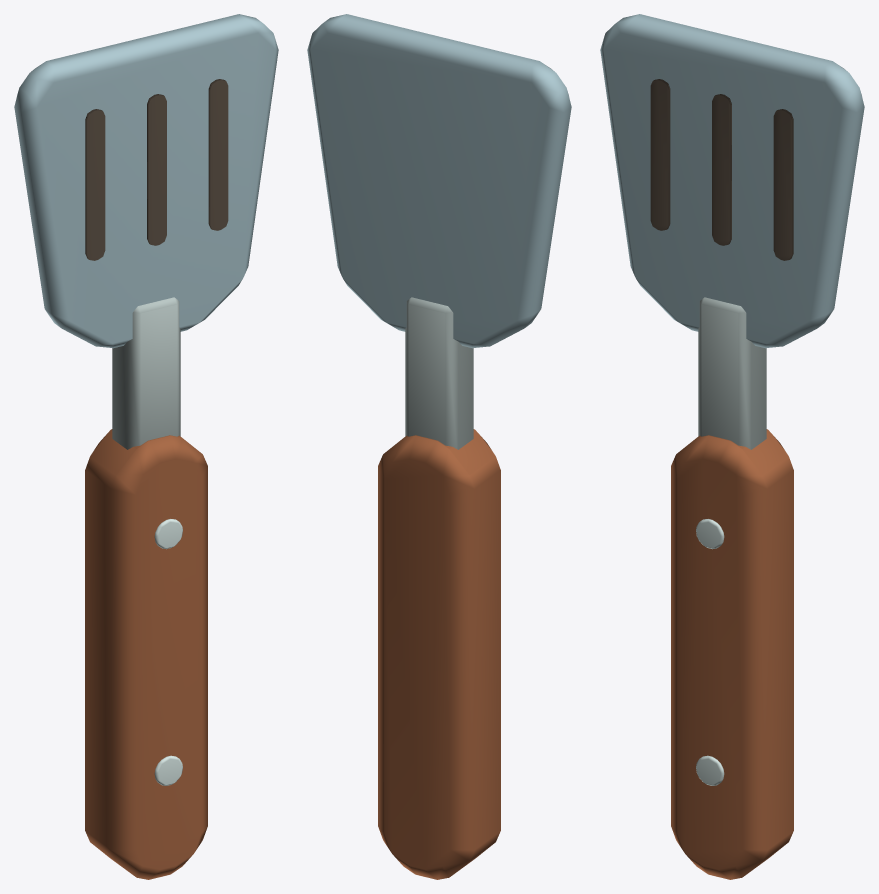
The model's file is tool_spatula.glb.
3 renders of one model, left to right at view 1: azimuth 30°, elevation 25°; view 2: azimuth 150°, elevation 25°; view 3: azimuth 330°, elevation 25°, orthographic.
Visible parts, largest first — view 1: Rounded spatula blade; view 2: Rounded spatula blade; view 3: Rounded spatula blade.
Part boxes in pixels (box(x1,y1,x2,y2)): Rounded spatula blade: box(14, 14, 278, 879); Rounded spatula blade: box(307, 14, 571, 879); Rounded spatula blade: box(600, 14, 864, 879).
Bounding box in the file's own units: 0.771 × 2.38 × 0.2395.
